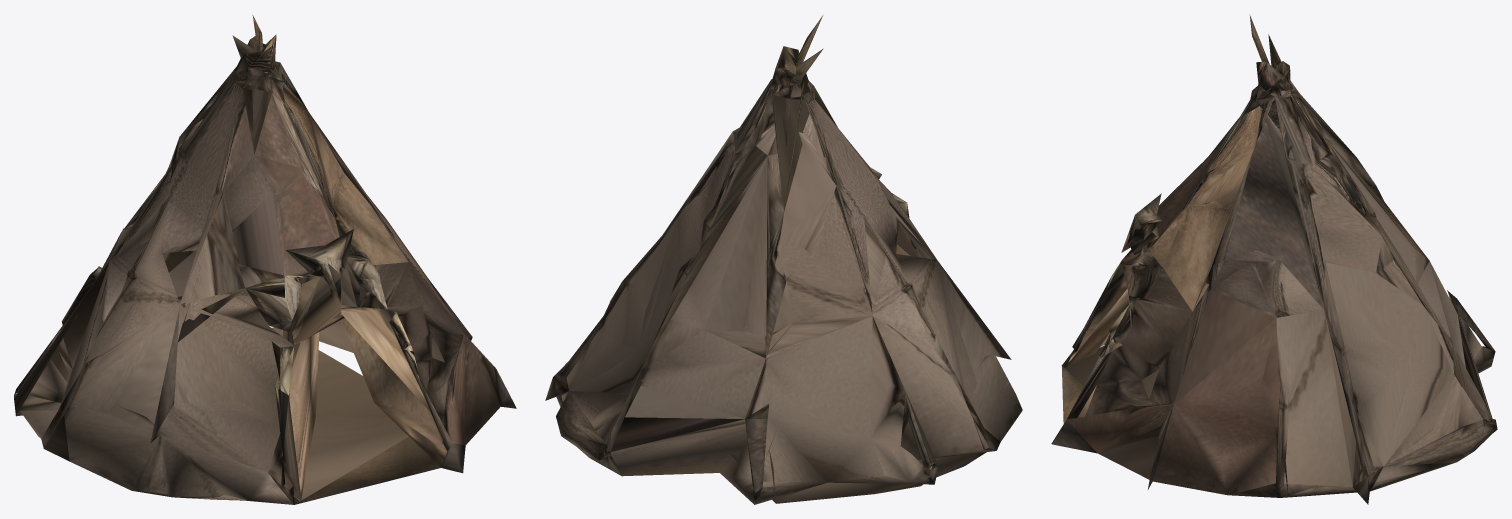
File: tusken_tent.glb
The picture shows the model from 3 angles, left to right: view 1: azimuth 30°, elevation 25°; view 2: azimuth 150°, elevation 25°; view 3: azimuth 270°, elevation 25°; orthographic projection. The views are drawn at different scales.
Size of the model in its own units: 0.9616 by 0.8888 by 0.923.
1 material, 1 textured.
